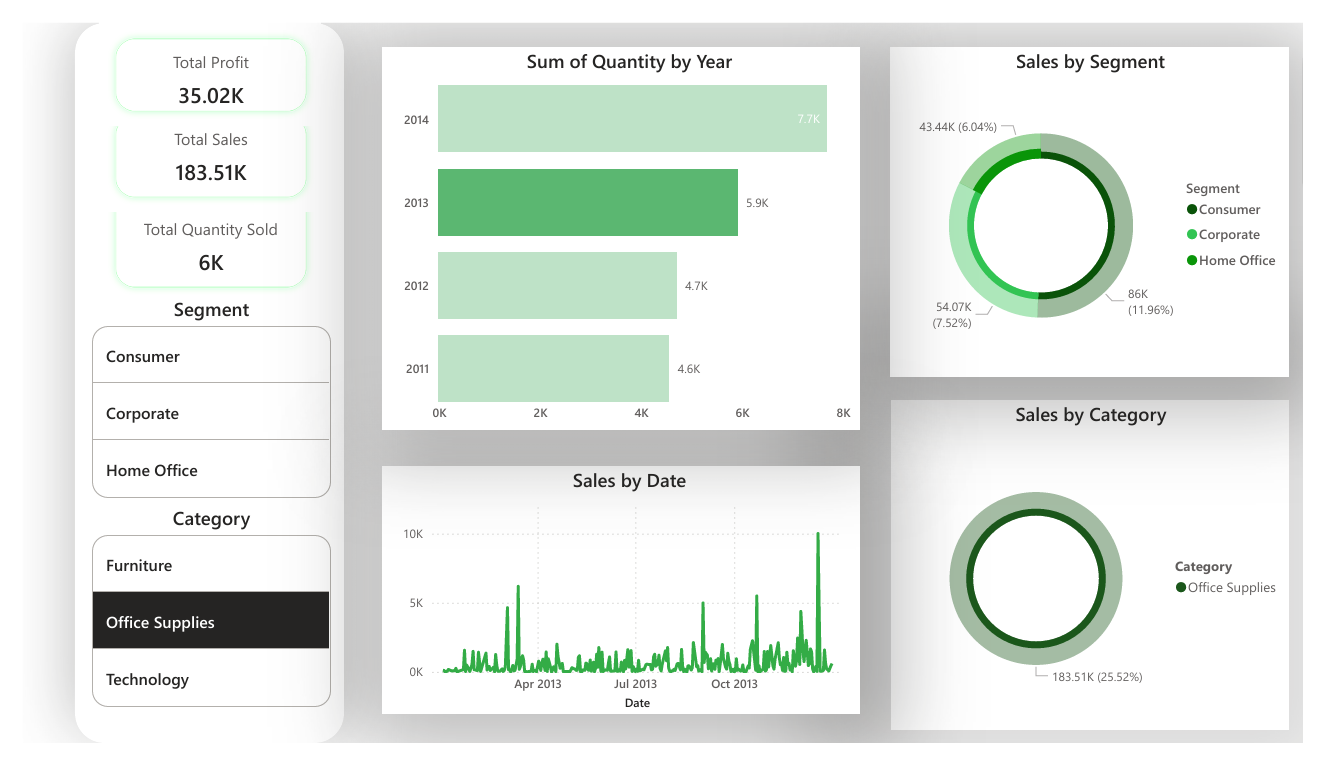

This screenshot's page, from the dashboard's own definition file:
{"tool":"powerbi","page":{"name":"Page 1","canvas":[1280,720],"ordinal":0},"visuals":[{"type":"shape","box":[62.4,16.8,250.5,675.1],"z":1000},{"type":"shape","box":[52.4,0,268.9,719.8],"z":1500},{"type":"cardVisual","fields":{"Data":["Sum(Superstore.Quantity)"]},"box":[77.5,150.8,221.4,128.7],"z":6000},{"type":"cardVisual","fields":{"Data":["Sum(Superstore.Sales)"]},"box":[77.5,77.5,221.4,112.1],"z":6500},{"type":"cardVisual","fields":{"Data":["Sum(Superstore.Profit)"]},"box":[77.5,0,221.4,103.8],"z":6750},{"type":"donutChart","fields":{"Category":["Superstore.Category"],"Y":["Sum(Superstore.Sales)"]},"box":[869,377.8,398,330.7],"z":7000},{"type":"donutChart","title":"Sales by Segment","fields":{"Category":["Superstore.Segment"],"Y":["Sum(Superstore.Sales)"]},"box":[868.2,24.6,398.4,330.3],"z":8000},{"type":"advancedSlicerVisual","fields":{"Values":["Superstore.Category"]},"box":[63.7,481.6,249.1,209],"z":8250},{"type":"advancedSlicerVisual","fields":{"Values":["Superstore.Segment"]},"box":[63.7,272.6,249.1,209],"z":8500},{"type":"lineChart","fields":{"Category":["Superstore.Order Date"],"Y":["Sum(Superstore.Sales)"]},"box":[360.5,444.1,477.6,247.7],"z":9000},{"type":"clusteredBarChart","fields":{"Y":["Sum(Superstore.Quantity)"],"Category":["Superstore.Order Date.Variation.Date Hierarchy.Year","Superstore.Order Date.Variation.Date Hierarchy.Quarter","Superstore.Order Date.Variation.Date Hierarchy.Month","Superstore.Order Date.Variation.Date Hierarchy.Day"]},"box":[360.5,24.6,477.6,383.9],"z":10000}]}

Visuals, with their boxes in screenshot pixels (x1, y1, x2, y2), scaled from the page's 1280x720 canvas onto the 1327x765 screenshot:
shape: [left=65, top=18, right=324, bottom=735]
shape: [left=54, top=0, right=333, bottom=764]
cardVisual - Sum(Superstore.Quantity): [left=80, top=160, right=310, bottom=297]
cardVisual - Sum(Superstore.Sales): [left=80, top=82, right=310, bottom=201]
cardVisual - Sum(Superstore.Profit): [left=80, top=0, right=310, bottom=110]
donutChart - Superstore.Category x Sum(Superstore.Sales): [left=901, top=401, right=1314, bottom=753]
"Sales by Segment" donutChart: [left=900, top=26, right=1313, bottom=377]
advancedSlicerVisual - Superstore.Category: [left=66, top=512, right=324, bottom=734]
advancedSlicerVisual - Superstore.Segment: [left=66, top=290, right=324, bottom=512]
lineChart - Superstore.Order Date x Sum(Superstore.Sales): [left=374, top=472, right=869, bottom=735]
clusteredBarChart - Sum(Superstore.Quantity) x Superstore.Order Date.Variation.Date Hierarchy.Year: [left=374, top=26, right=869, bottom=434]
